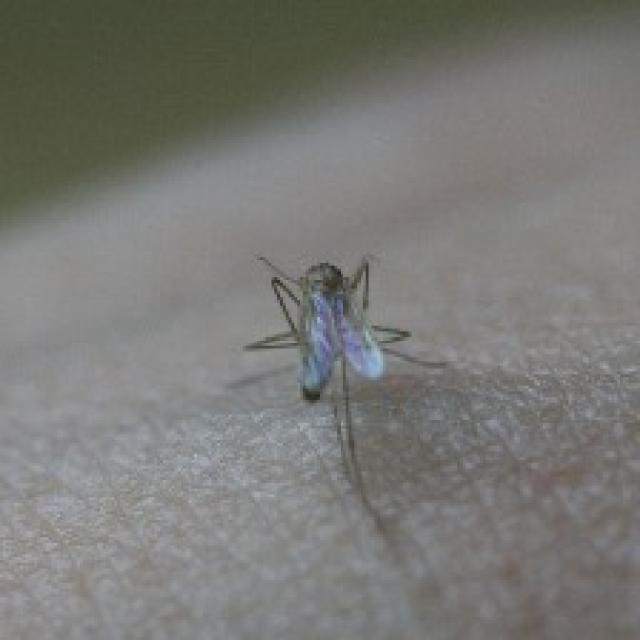culex: (237, 248, 446, 543)
